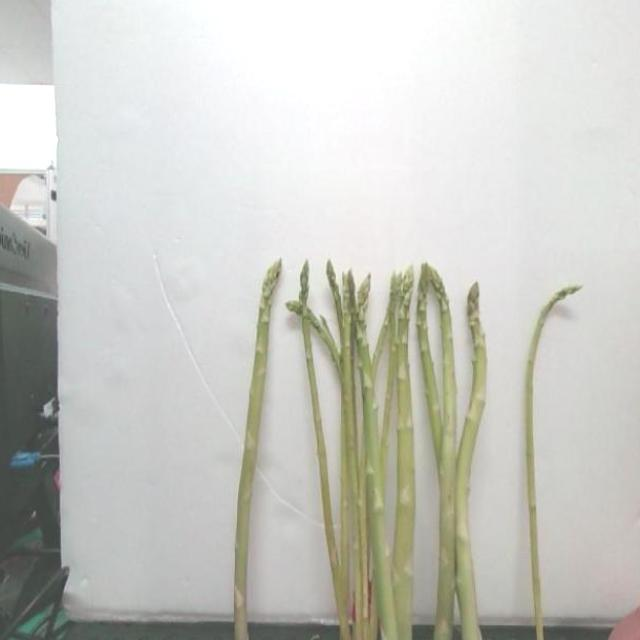aspargus: (525, 285, 582, 640), (233, 263, 284, 640), (453, 284, 490, 640)
